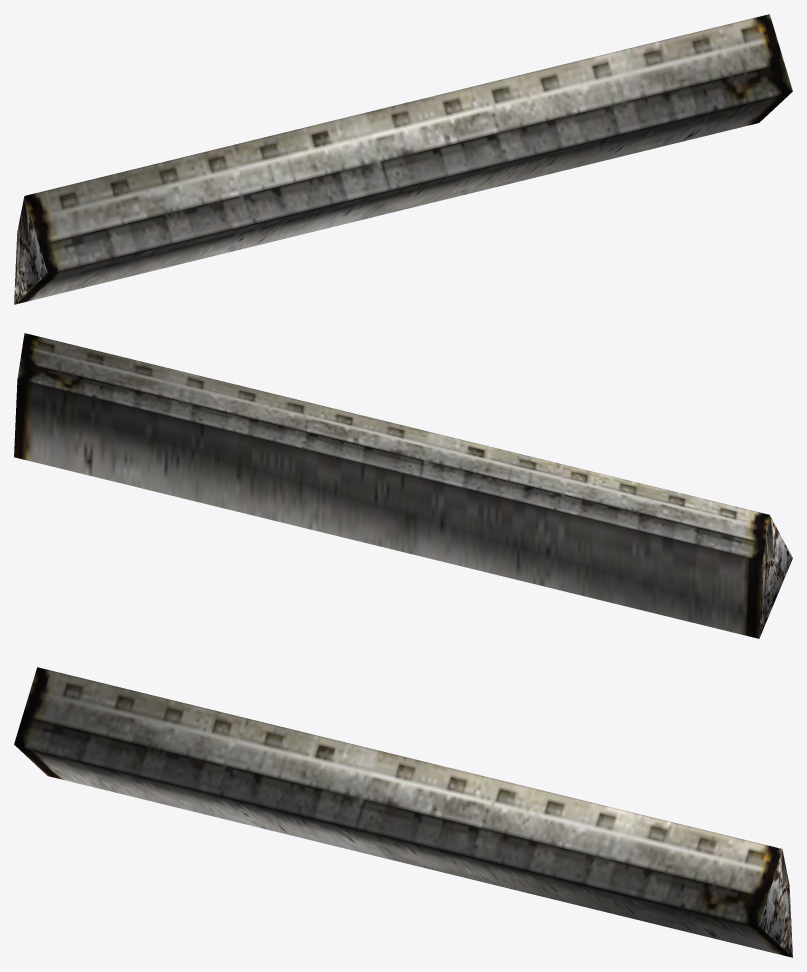
Rendered from Civilian - Landmark - Tsing Ma Landmark Bridge - Damage State 02 - CMTsingMa_d02.glb.
The picture shows the model from 3 angles, top to bottom: view 1: azimuth 30°, elevation 25°; view 2: azimuth 150°, elevation 25°; view 3: azimuth 330°, elevation 25°; orthographic projection.
Parts seen in each view (by area): view 1: CMTSINGMA_D02; view 2: CMTSINGMA_D02; view 3: CMTSINGMA_D02.
Part boxes in pixels (bbox=[...]): CMTSINGMA_D02: bbox=[14, 14, 792, 304]; CMTSINGMA_D02: bbox=[14, 333, 792, 638]; CMTSINGMA_D02: bbox=[14, 667, 792, 957].
Size of the model in its own units: 80.49 by 12.03 by 6.32.
1 material, 1 textured.
